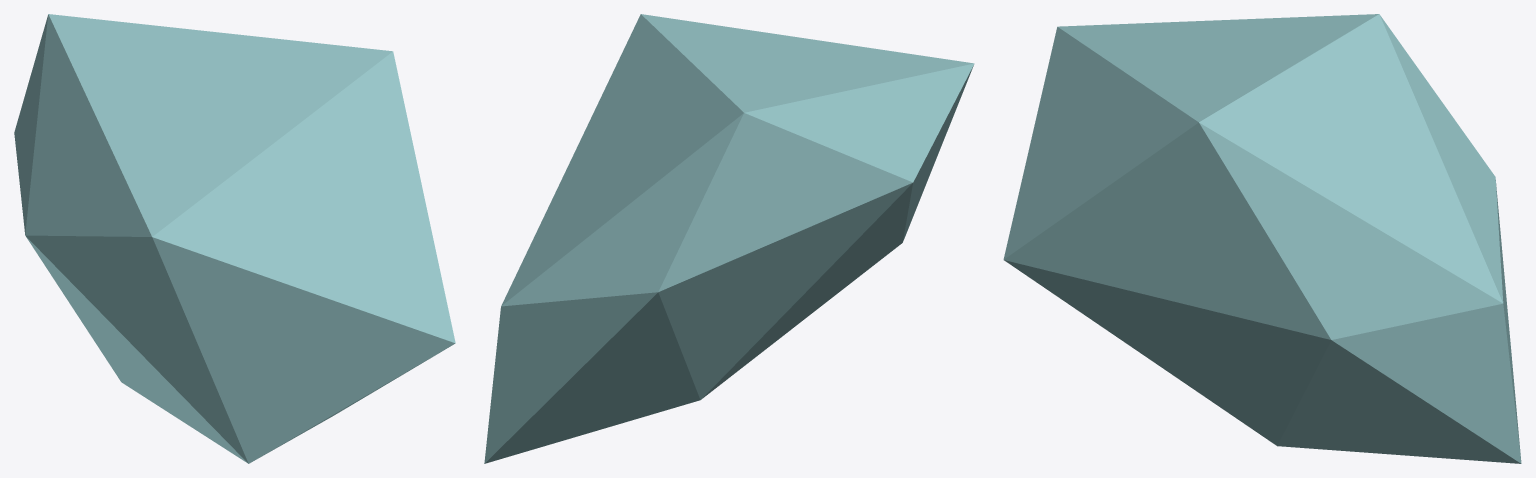
The model's file is kamen 4.fbx.
3 views of the same model, side by side, from view 1: azimuth 30°, elevation 25°; view 2: azimuth 150°, elevation 25°; view 3: azimuth 270°, elevation 25° (orthographic). The views are drawn at different scales.
Visible parts, largest first — view 1: Icosphere.002; view 2: Icosphere.002; view 3: Icosphere.002.
Part boxes in pixels (<box>): Icosphere.002: <box>14,14,455,463</box>; Icosphere.002: <box>484,14,974,463</box>; Icosphere.002: <box>1003,14,1521,463</box>.
Bounding box in the file's own units: 252 × 255 × 337.
